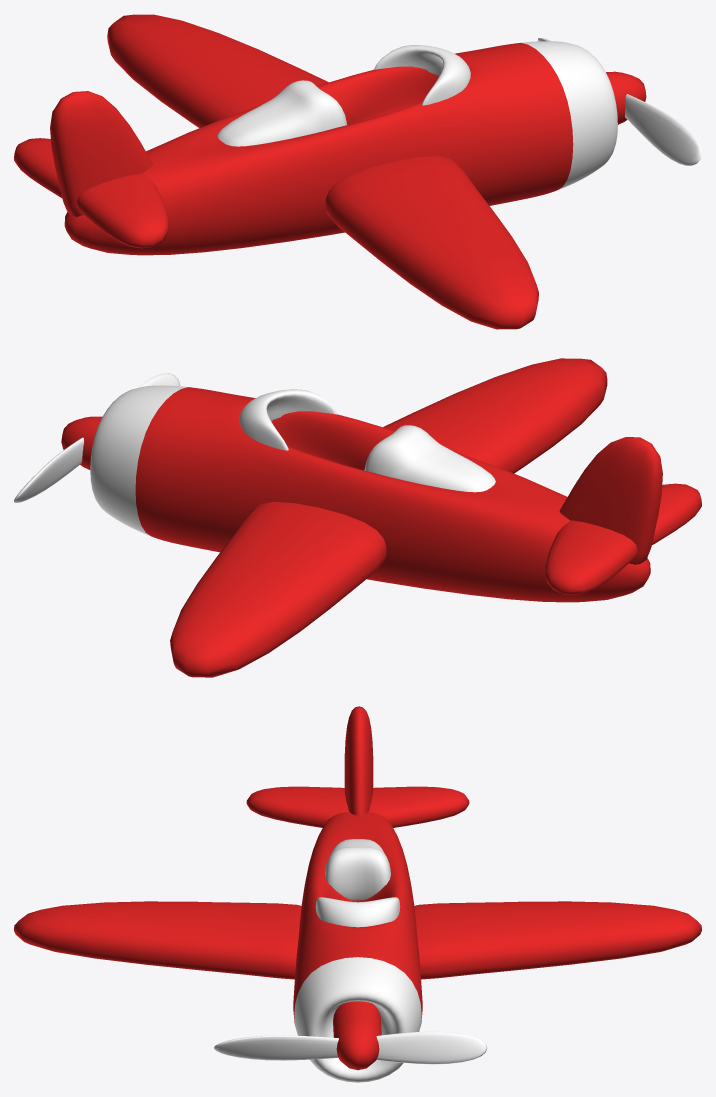
File: toyplane.glb
The picture shows the model from 3 angles, top to bottom: view 1: azimuth 30°, elevation 25°; view 2: azimuth 150°, elevation 25°; view 3: azimuth 270°, elevation 25°; orthographic projection. The views are drawn at different scales.
Visible parts, largest first — view 1: Cube, Cube.004, Cube.005; view 2: Cube, Cube.004, Cube.005; view 3: Cube, Cube.004, Cube.005.
Part boxes in pixels (left/top/right/bottom): Cube: left=14, top=14, right=701, bottom=329; Cube.004: left=217, top=80, right=347, bottom=146; Cube.005: left=374, top=45, right=470, bottom=105; Cube: left=14, top=358, right=701, bottom=677; Cube.004: left=364, top=425, right=495, bottom=492; Cube.005: left=239, top=389, right=336, bottom=450; Cube: left=14, top=706, right=701, bottom=1082; Cube.004: left=325, top=839, right=390, bottom=900; Cube.005: left=315, top=897, right=400, bottom=927.
Size of the model in its own units: 24.12 by 8.02 by 28.57.
